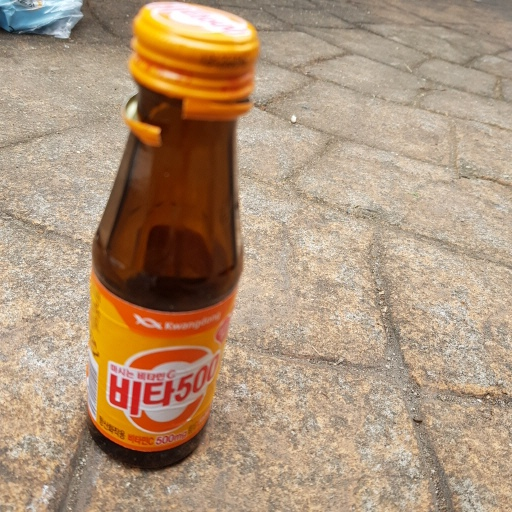Glass_3: (83, 3, 258, 470)
